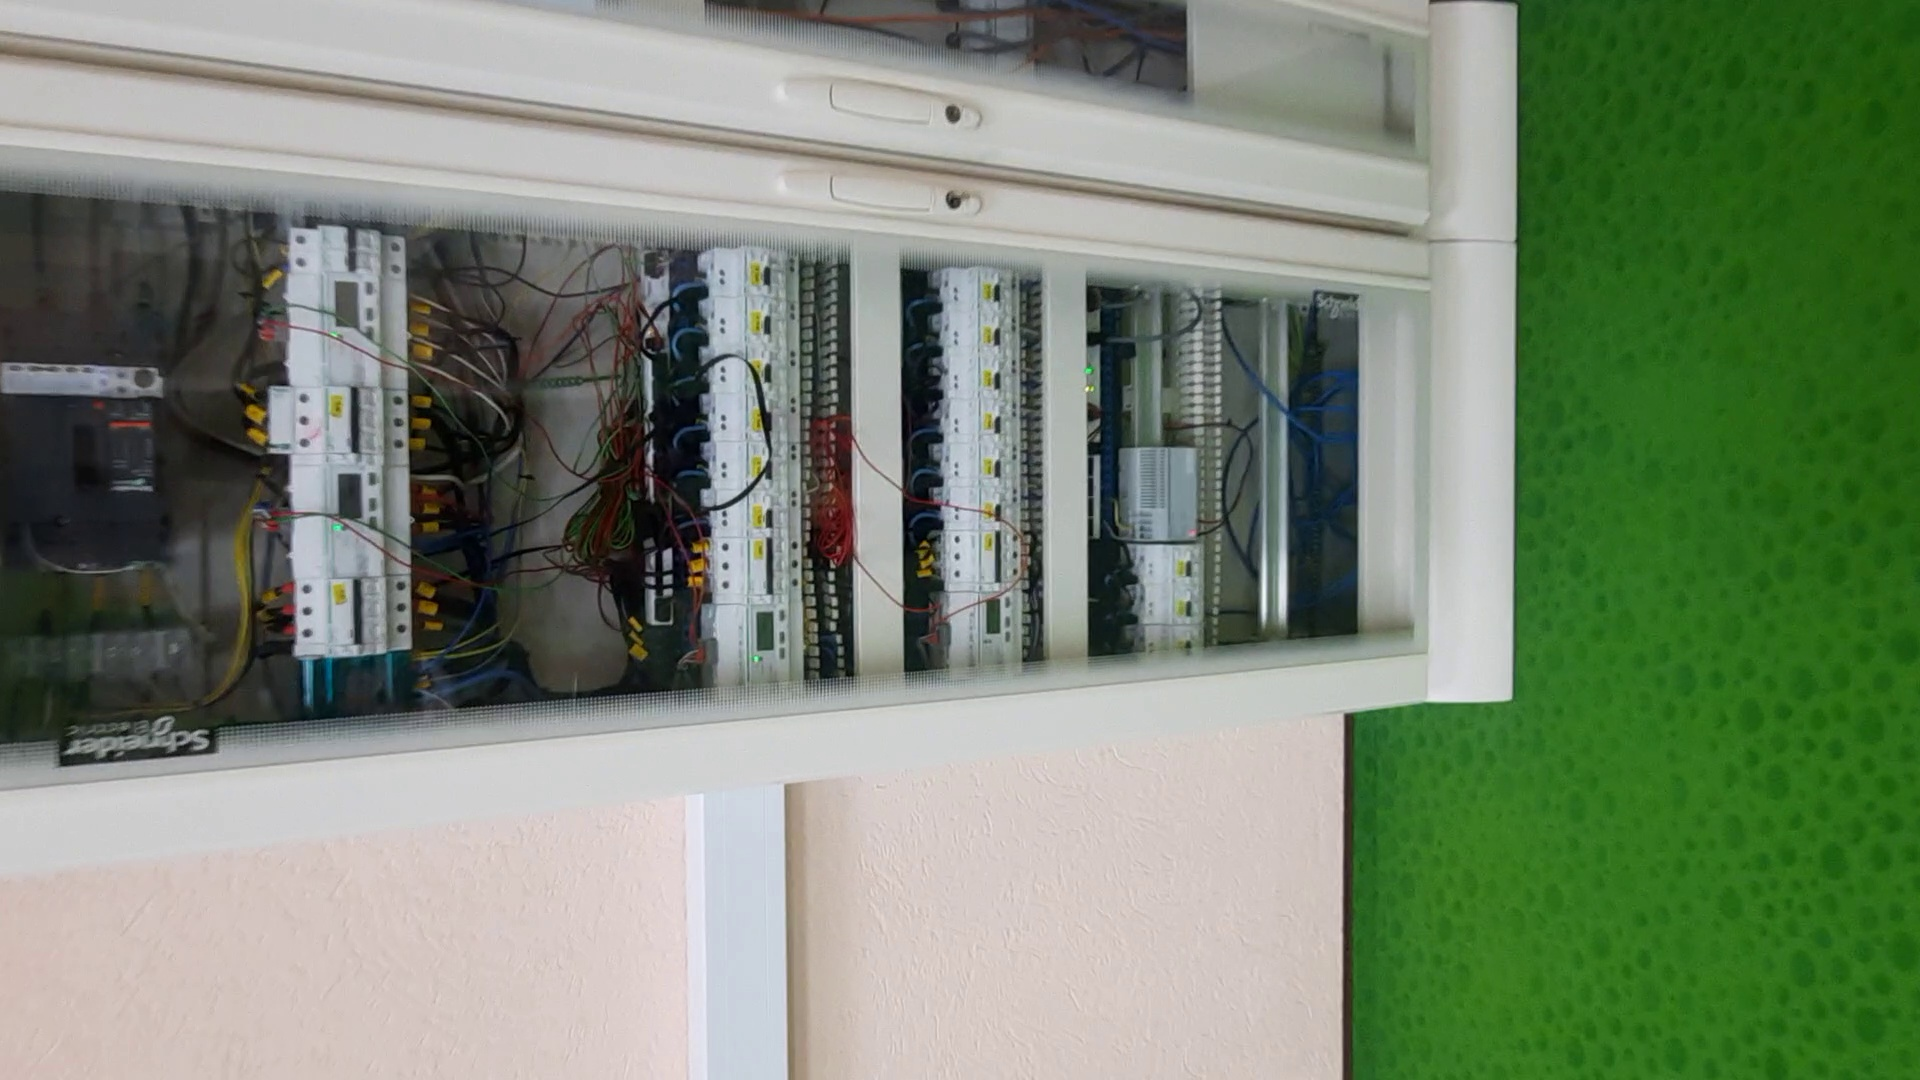stand1: (1, 3, 1520, 775)
